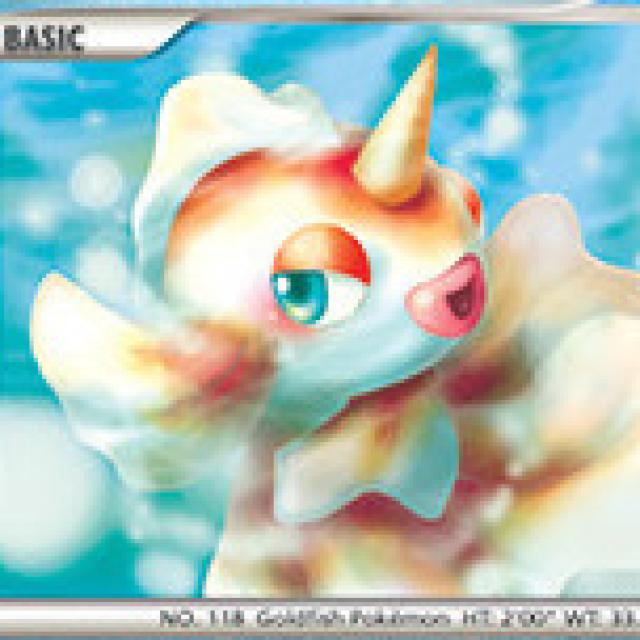Goldeen: (39, 63, 616, 526)
